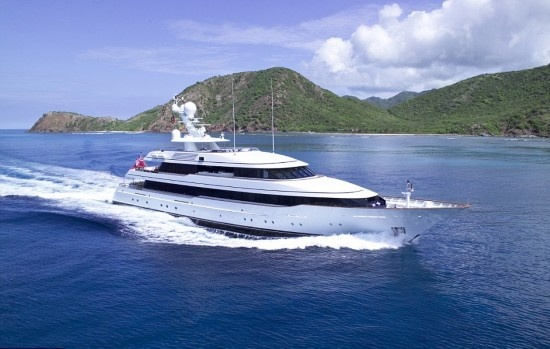yacht: (99, 95, 468, 247)
